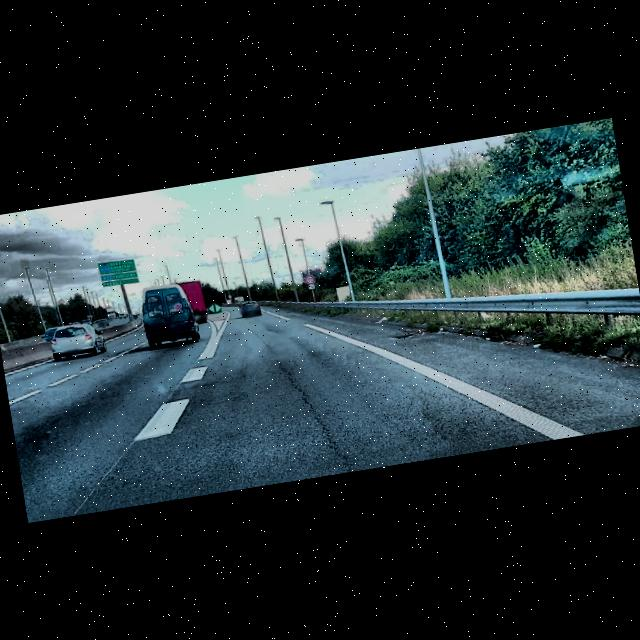speed_70: (306, 274, 316, 284)
